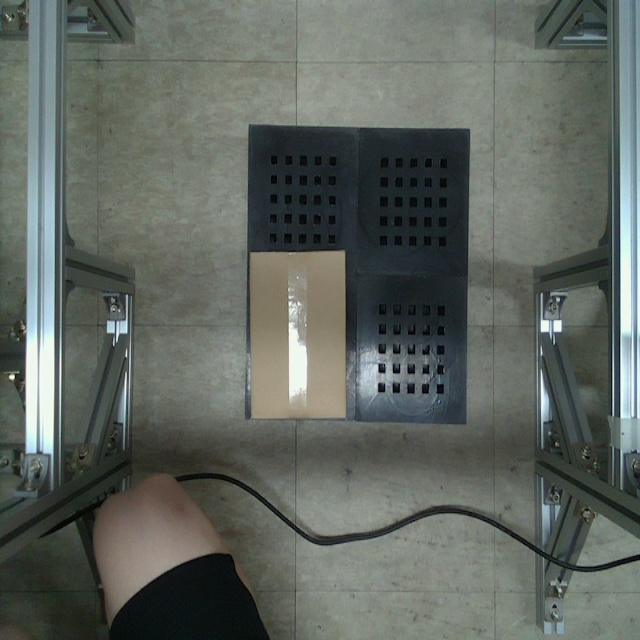box: (249, 249, 348, 420)
pallet: (246, 124, 466, 420)
